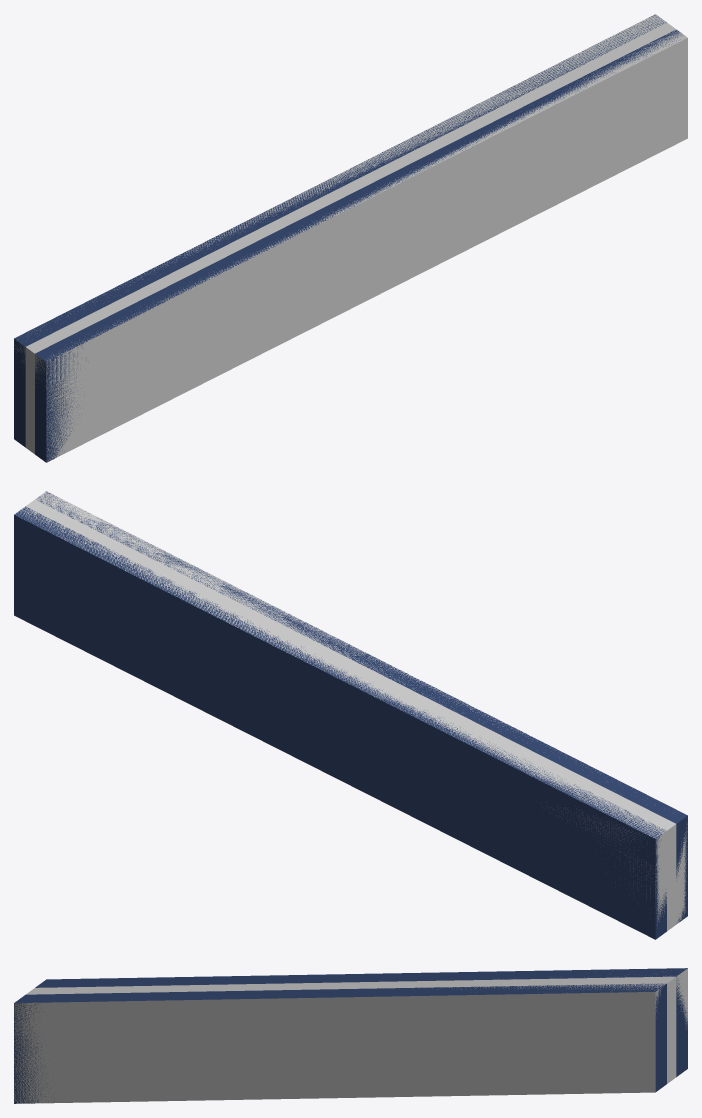
The model's file is SM_Railroad_c.fbx.
3 views of the same model, one above another, from view 1: azimuth 30°, elevation 25°; view 2: azimuth 150°, elevation 25°; view 3: azimuth 330°, elevation 25° (orthographic).
Visible parts, largest first — view 1: SM_Railroad_c_ConvexHulls, SM_Railroad_c; view 2: SM_Railroad_c, SM_Railroad_c_ConvexHulls; view 3: SM_Railroad_c_ConvexHulls, SM_Railroad_c.
Part boxes in pixels (bbox=[...]): SM_Railroad_c_ConvexHulls: bbox=[14, 14, 687, 462]; SM_Railroad_c: bbox=[14, 15, 683, 462]; SM_Railroad_c: bbox=[14, 491, 687, 939]; SM_Railroad_c_ConvexHulls: bbox=[15, 491, 687, 931]; SM_Railroad_c_ConvexHulls: bbox=[14, 968, 687, 1103]; SM_Railroad_c: bbox=[14, 968, 687, 1103].
Size of the model in its own units: 800 by 70 by 320.
